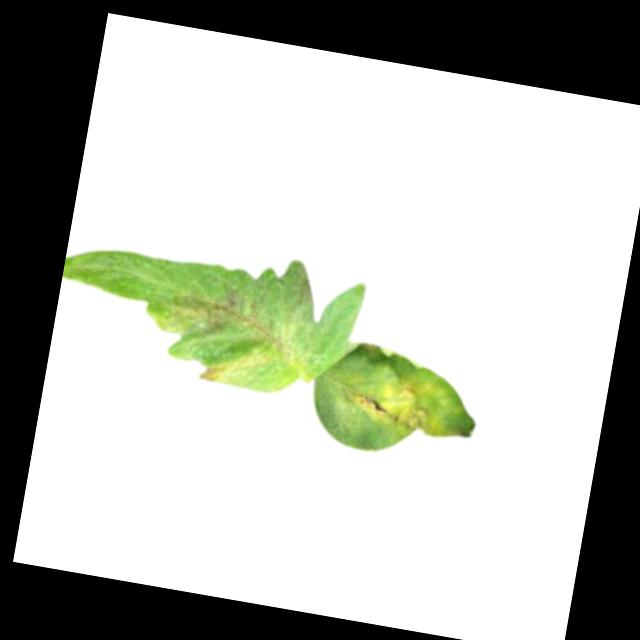Late_blight: (165, 278, 303, 357), (350, 367, 458, 438), (197, 342, 290, 395)
